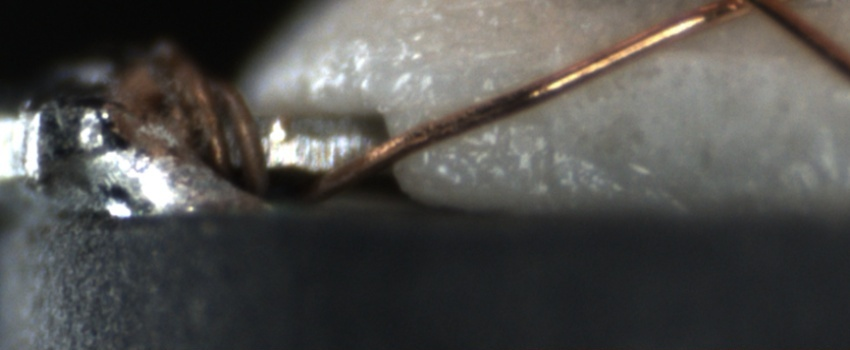CL: (702, 0, 786, 21)
TE: (140, 50, 269, 196)
